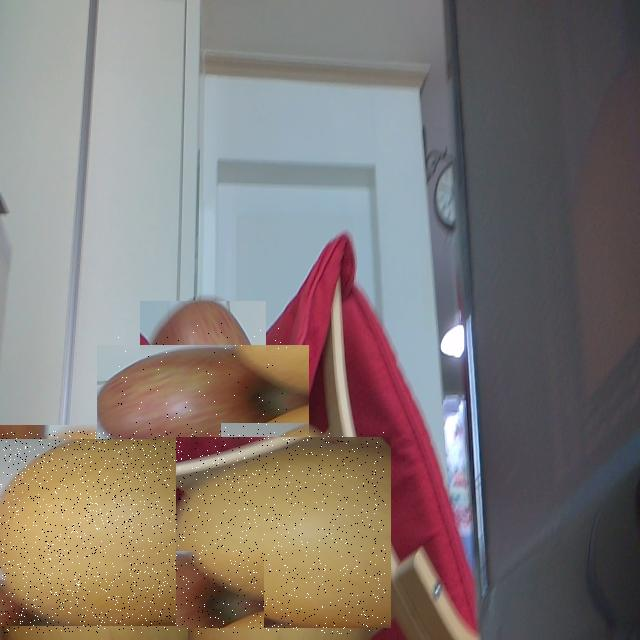apple: (118, 323, 288, 491)
pear: (182, 431, 386, 634), (0, 431, 194, 633)
